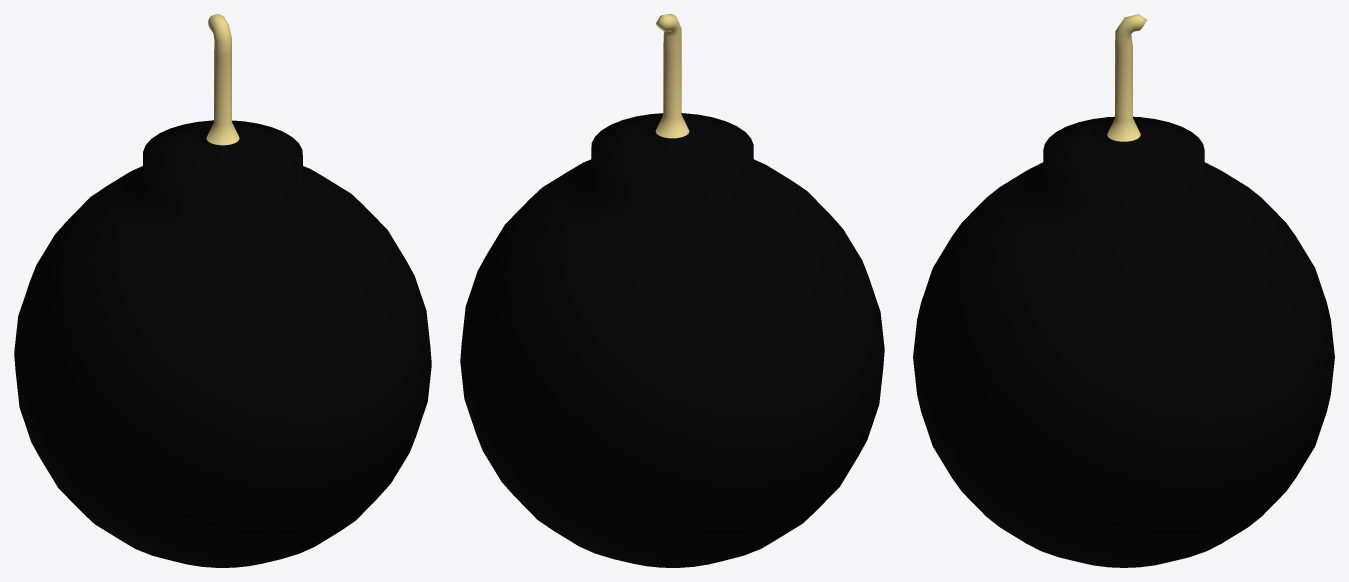
Rendered from Bomb.fbx.
3 views of the same model, side by side, from view 1: azimuth 30°, elevation 25°; view 2: azimuth 150°, elevation 25°; view 3: azimuth 270°, elevation 25° (orthographic).
Parts seen in each view (by area): view 1: Sphere; view 2: Sphere; view 3: Sphere.
Boxes of the visible parts, left/top/right/bottom form: Sphere: left=14, top=14, right=431, bottom=567; Sphere: left=460, top=14, right=884, bottom=567; Sphere: left=913, top=14, right=1334, bottom=567.
Bounding box in the file's own units: 200 × 279 × 200.
